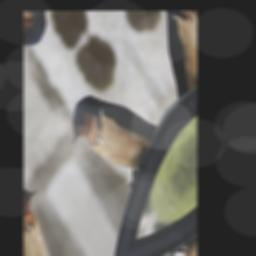Swallow: (60, 53, 170, 216)
